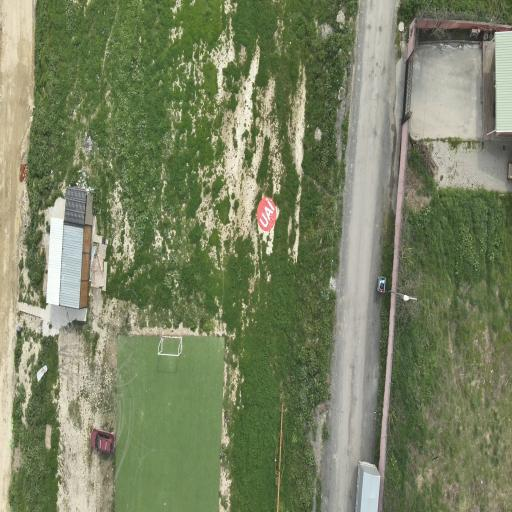UAI: (257, 197, 277, 231)
car: (91, 430, 115, 453)
